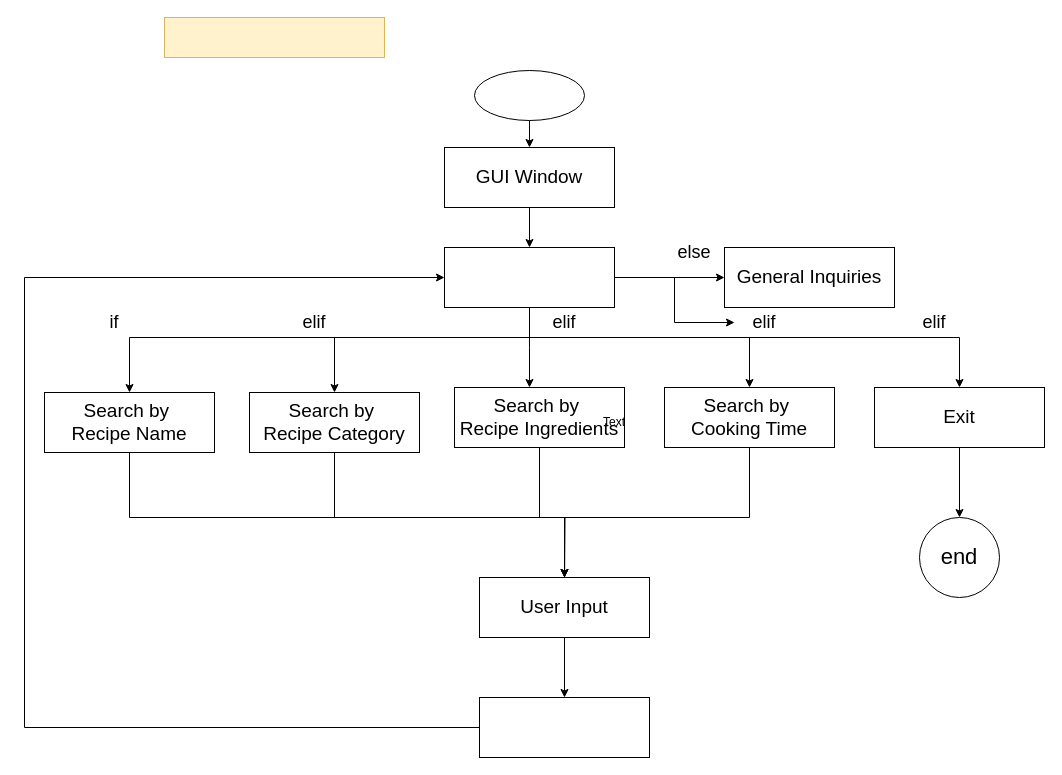
The diagram is 1062 pixels wide and 775 high, and some of its shapes have lost their labels. The centre of each missing label's shape, as x and y in pixels:
Display Menu: (x=529, y=277)
Display Result: (x=564, y=727)
Program Flowchart: (x=274, y=37)
Start: (x=529, y=95)
